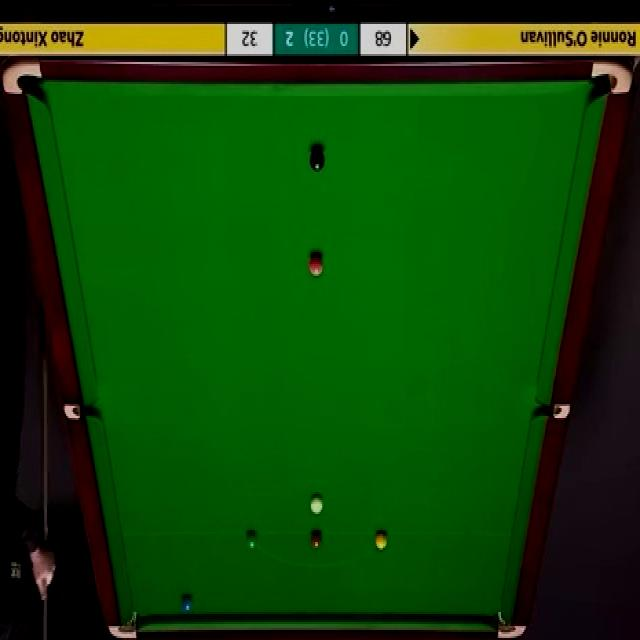black-ball: (309, 147, 326, 173)
blue-ball: (181, 596, 194, 613)
brown-ball: (309, 530, 324, 552)
green-ball: (245, 530, 260, 550)
pink-ball: (309, 254, 325, 277)
white-ball: (310, 494, 324, 516)
yellow-ball: (375, 531, 388, 552)
